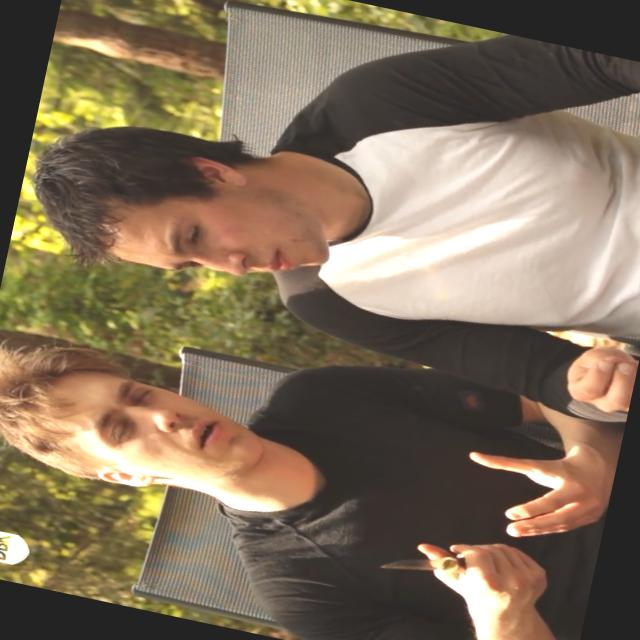knife: (368, 514, 524, 609)
